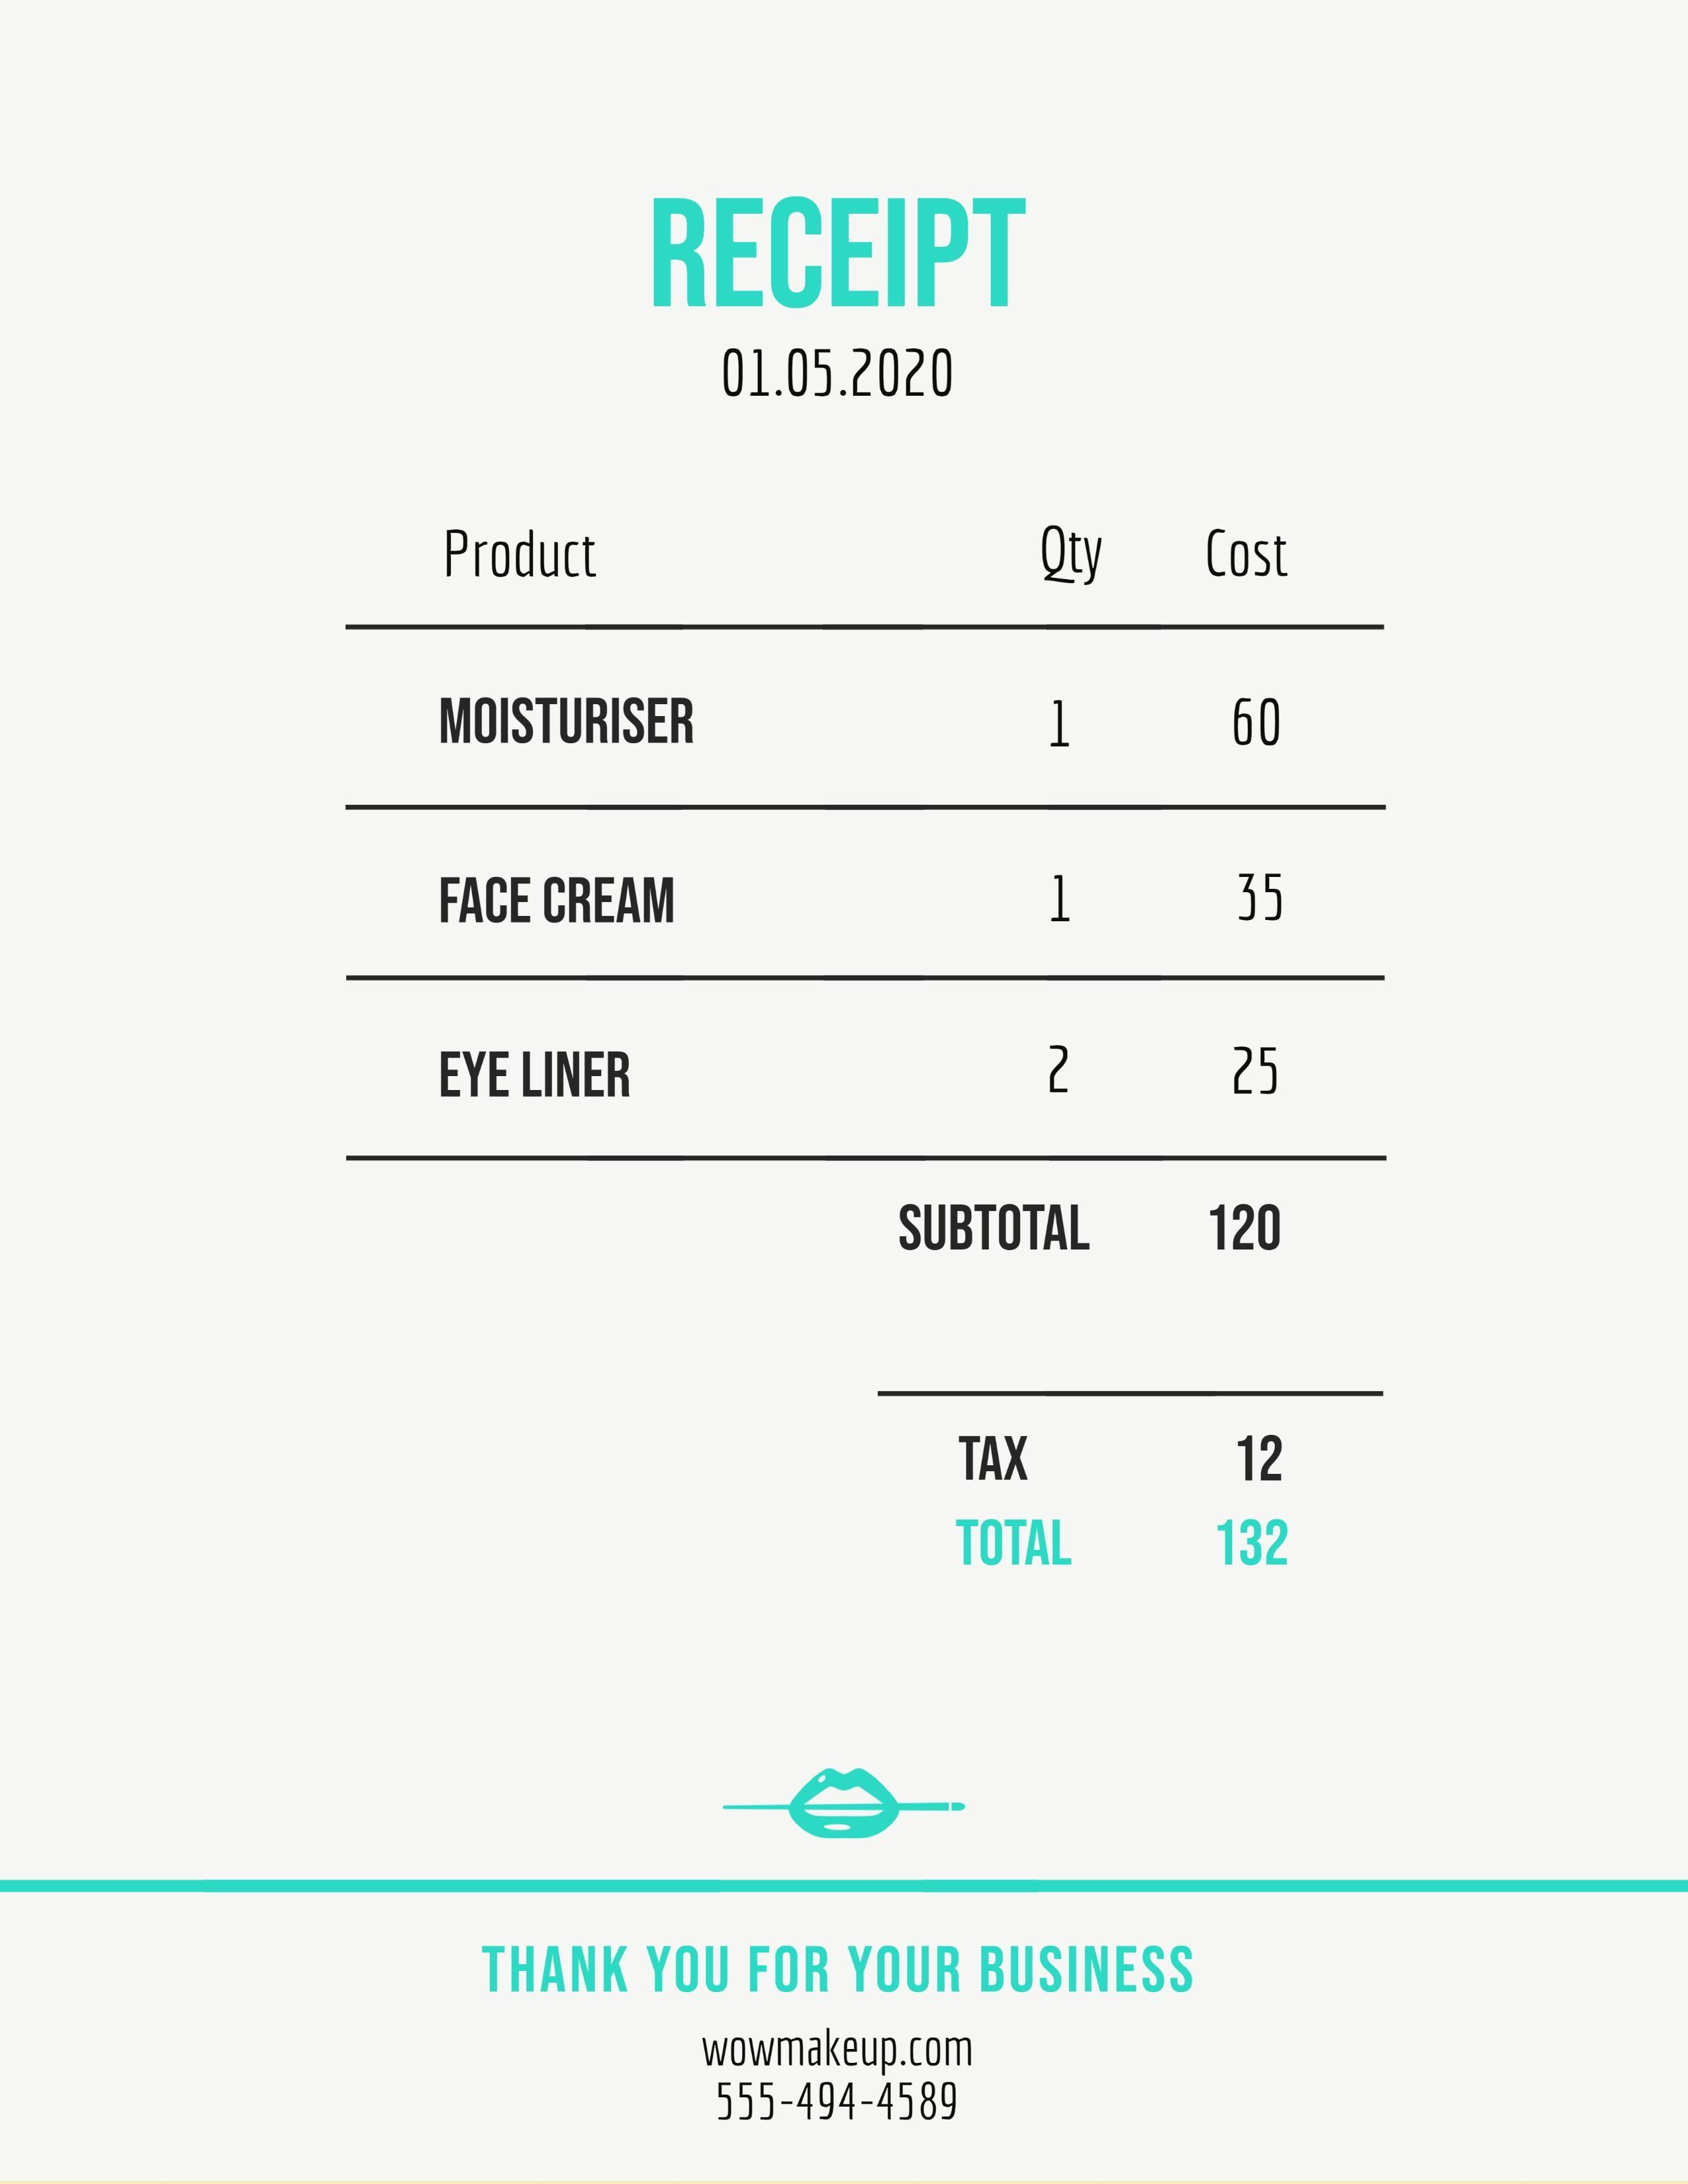ROI: (335, 481, 1406, 1187), (881, 1198, 1320, 1593)
